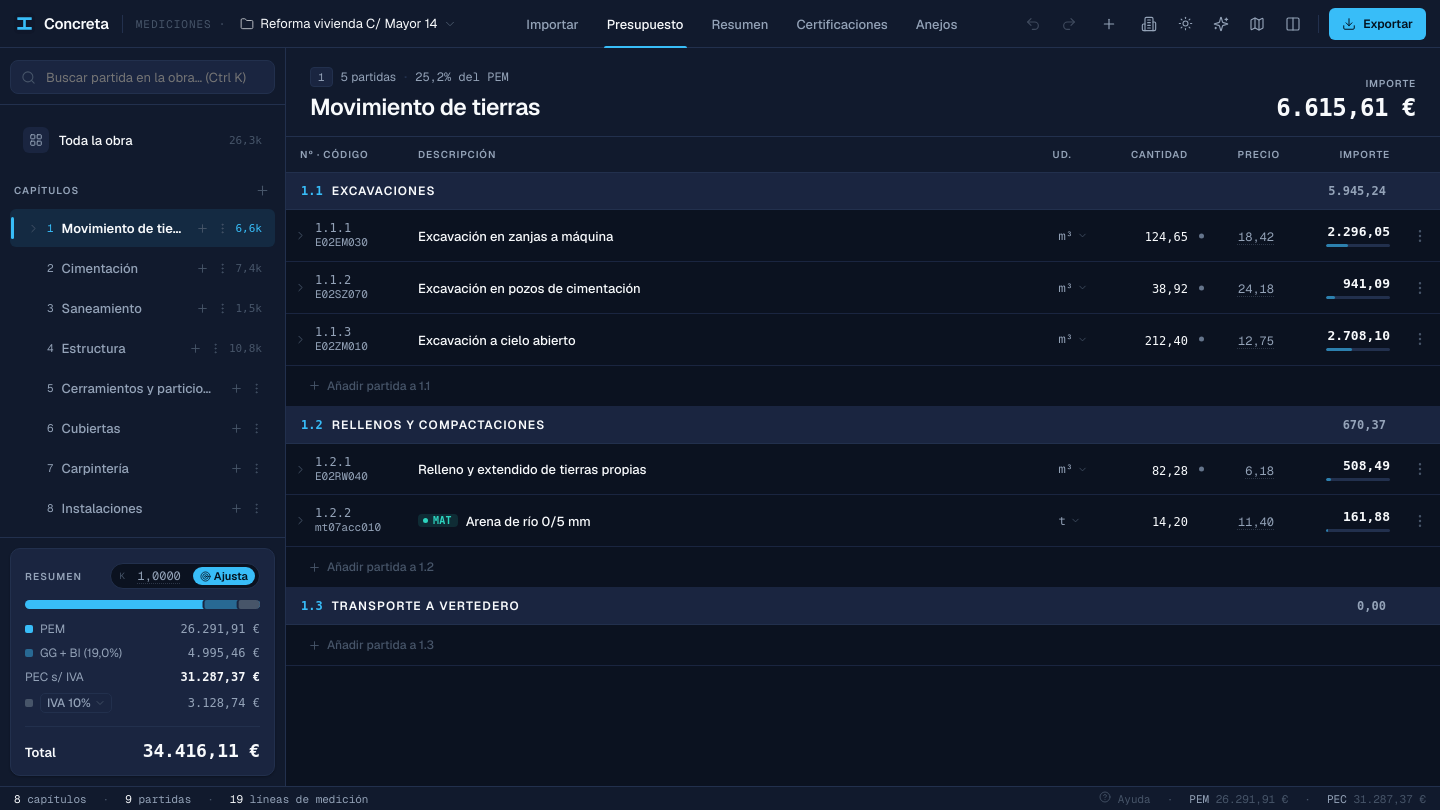
Test case: App shell (F0) › Exportar abre el chooser de listados (F7.1)
Step 1. Click the button "Exportar" → (1378, 24), box [1329,8,1426,40]
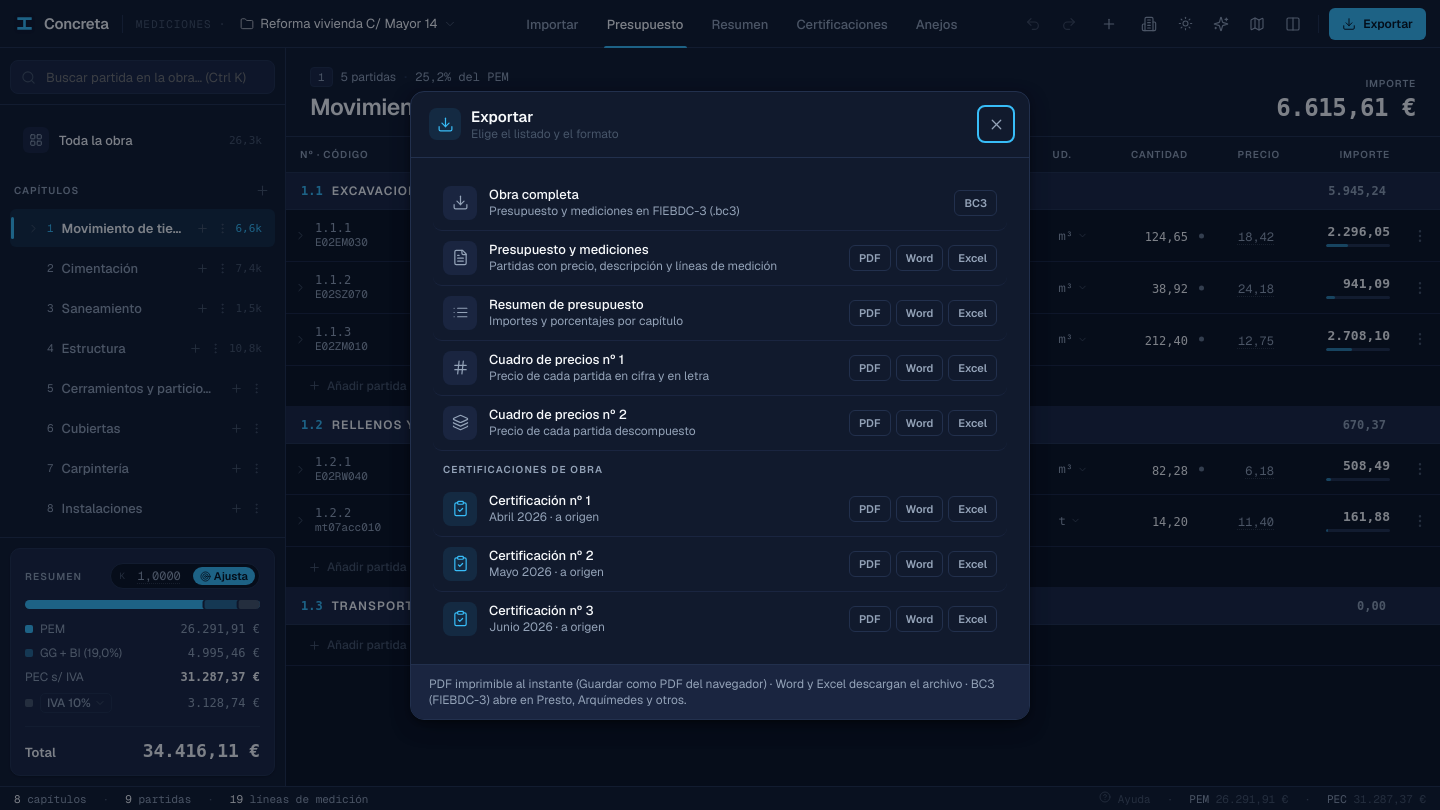
Result: the dialog "Exportar" is shown at [410,90,1030,720]
Result: the text "Presupuesto y mediciones" is shown at [489,241,649,258]
